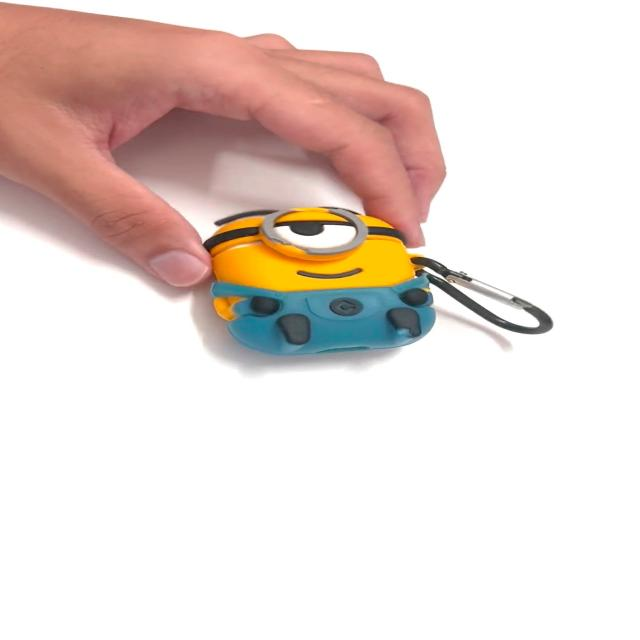airpod minion: (209, 206, 554, 356), (213, 215, 233, 229)
